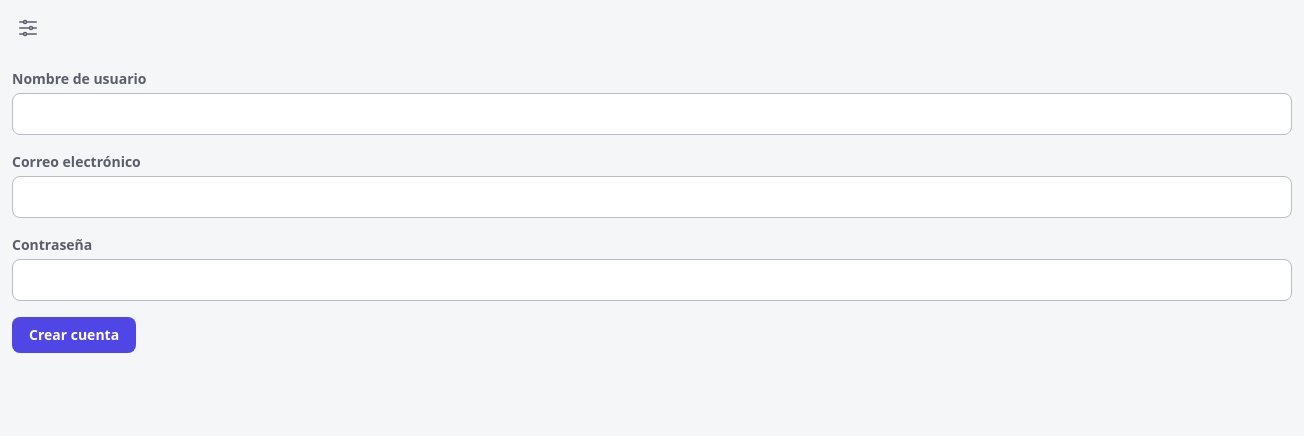
Test: RegistroForm › muestra los requisitos del usuario al enfocar y los marca al cumplirlos
Click the field labelled "Nombre de usuario": (652, 114) [12,93,1292,135]
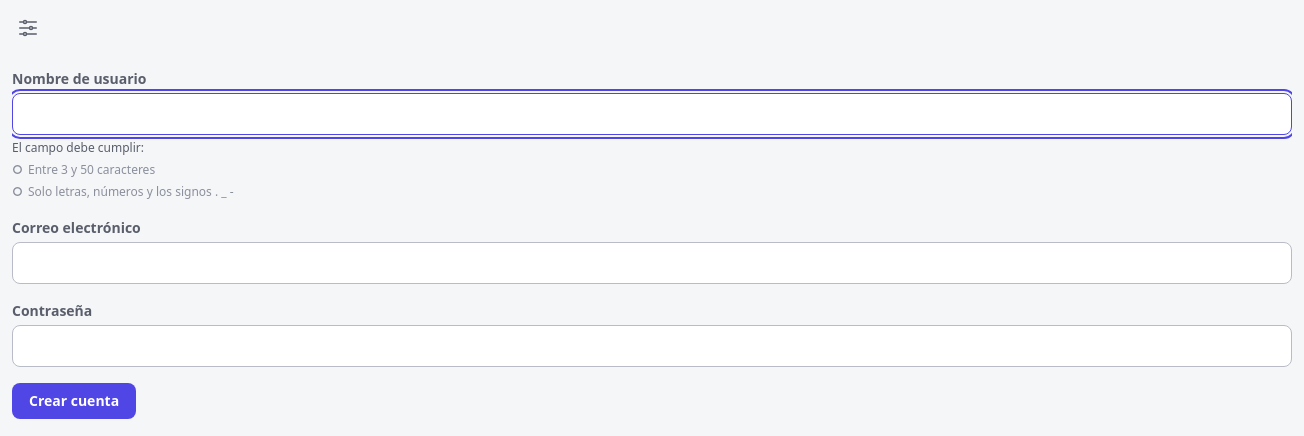
In the field labelled "Nombre de usuario": (652, 114) [12,93,1292,135], type "mateo"
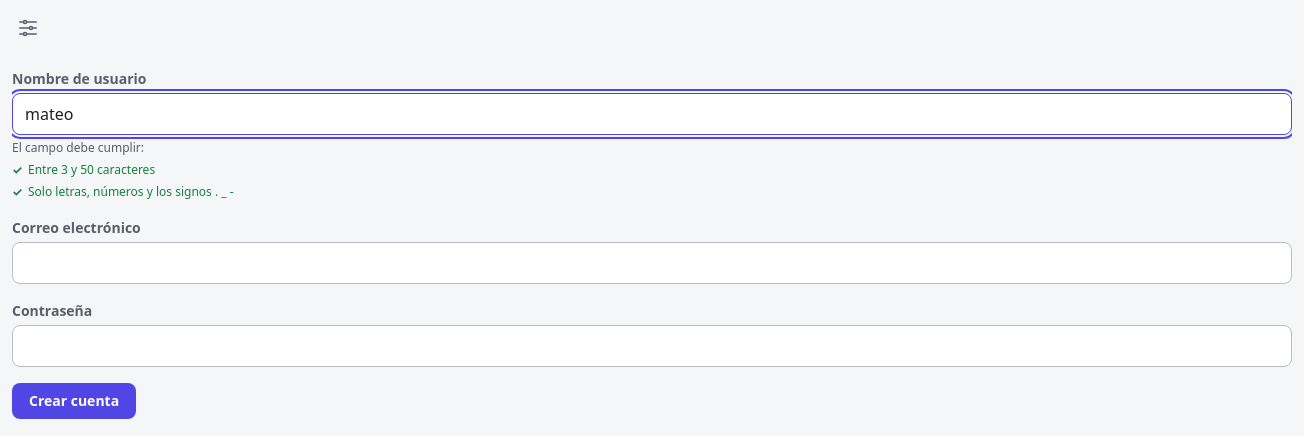
Check: the list item "Entre 3 y 50 caracteres" has attribute data-estado="cumplido", box [12,160,214,178]
Press Tab
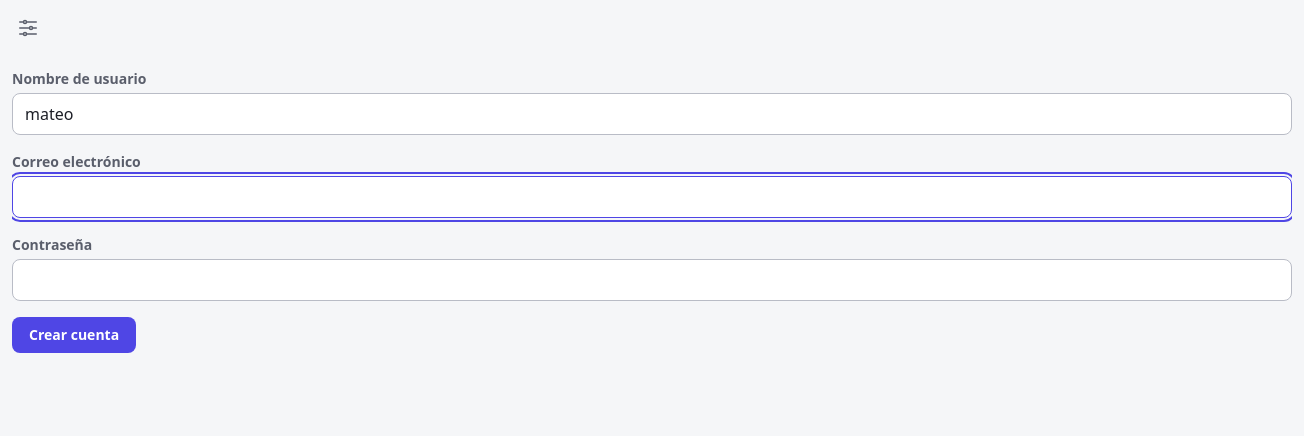
Check: the list item "Entre 3 y 50 caracteres" is gone
